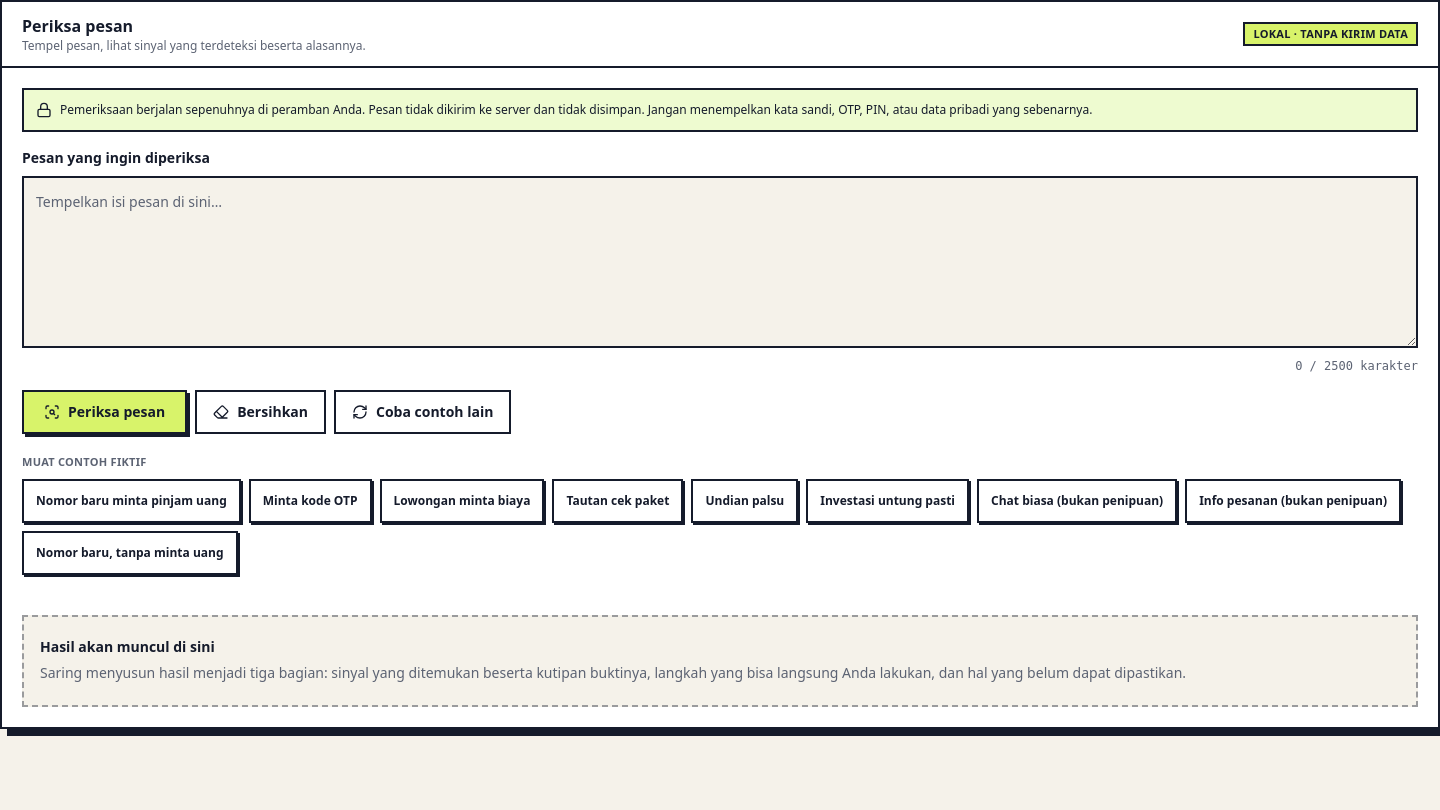
Test: Analyzer › shows validation for empty input
Click the button "Periksa pesan".
click(105, 412)  # box [22, 390, 187, 434]
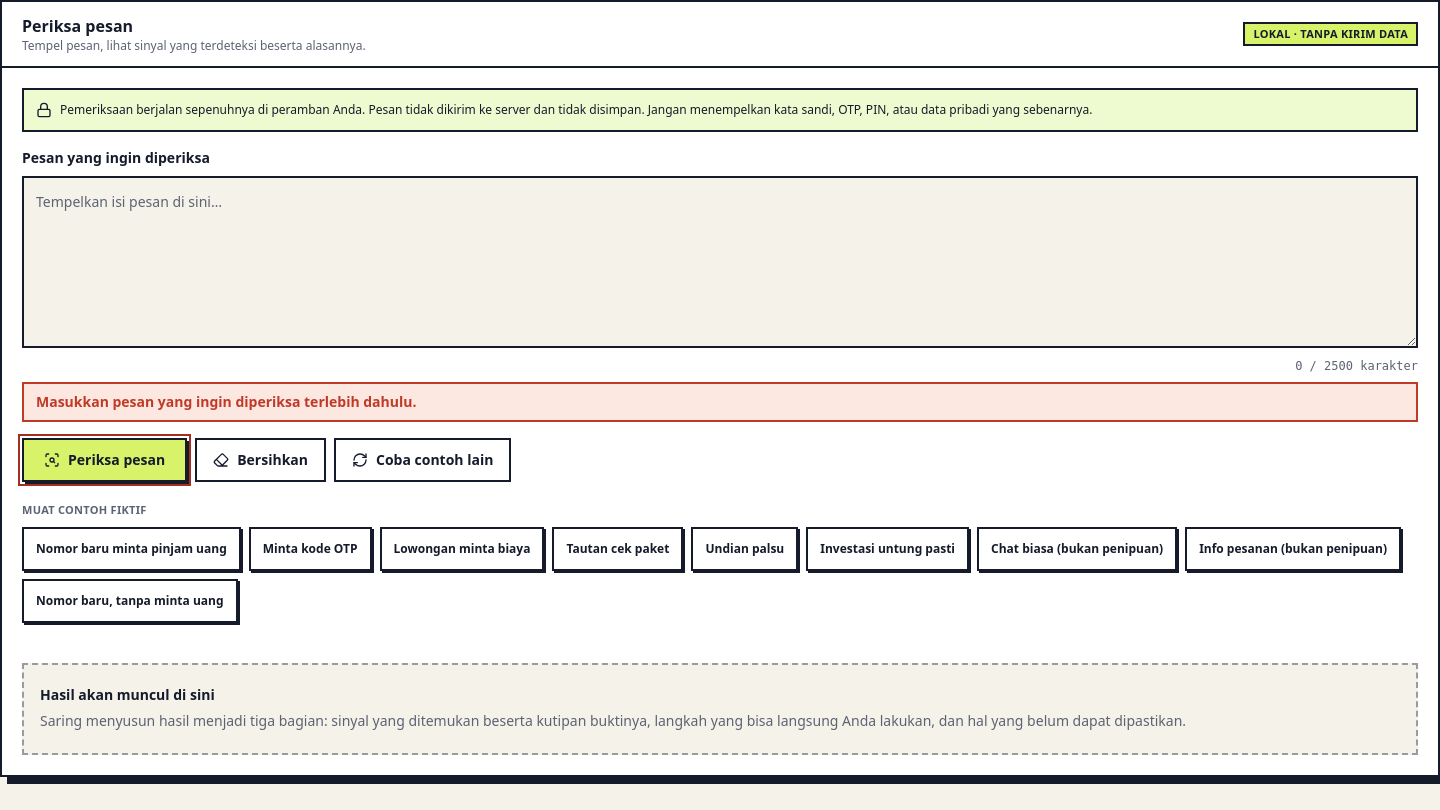
Now the message shows "Masukkan pesan", box [36, 392, 416, 411]
